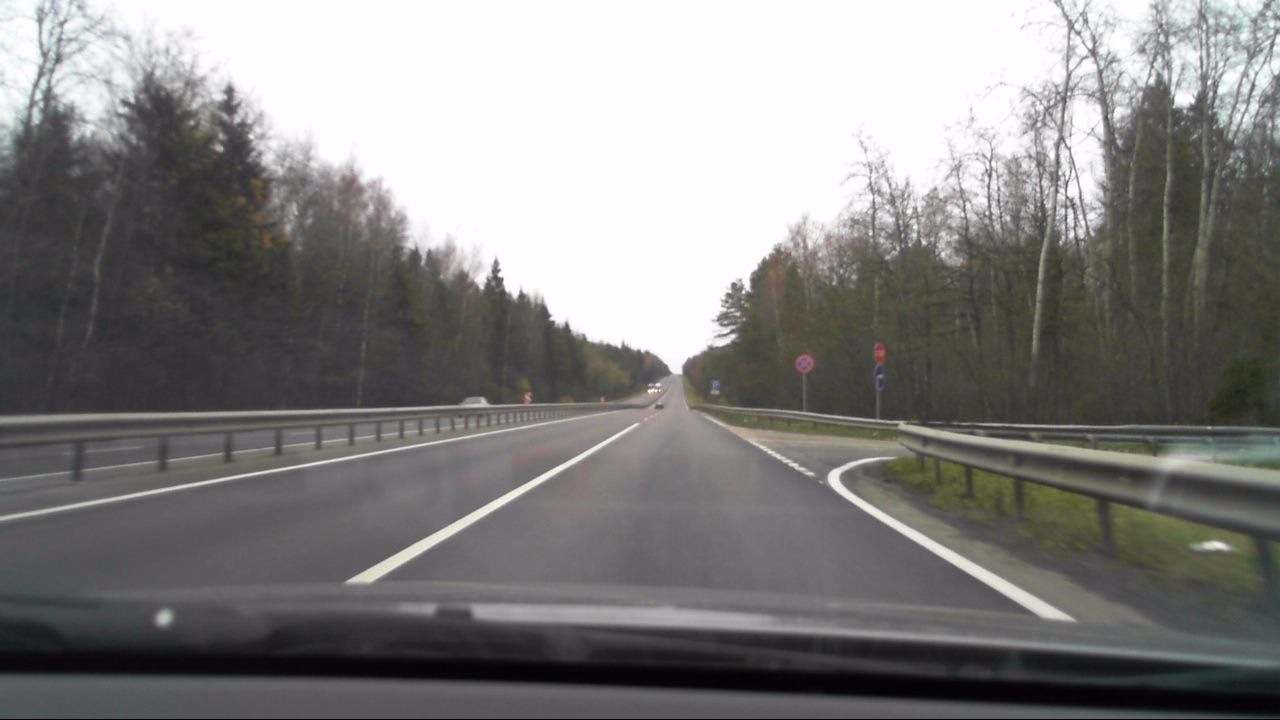No Parking: (793, 353, 815, 374)
